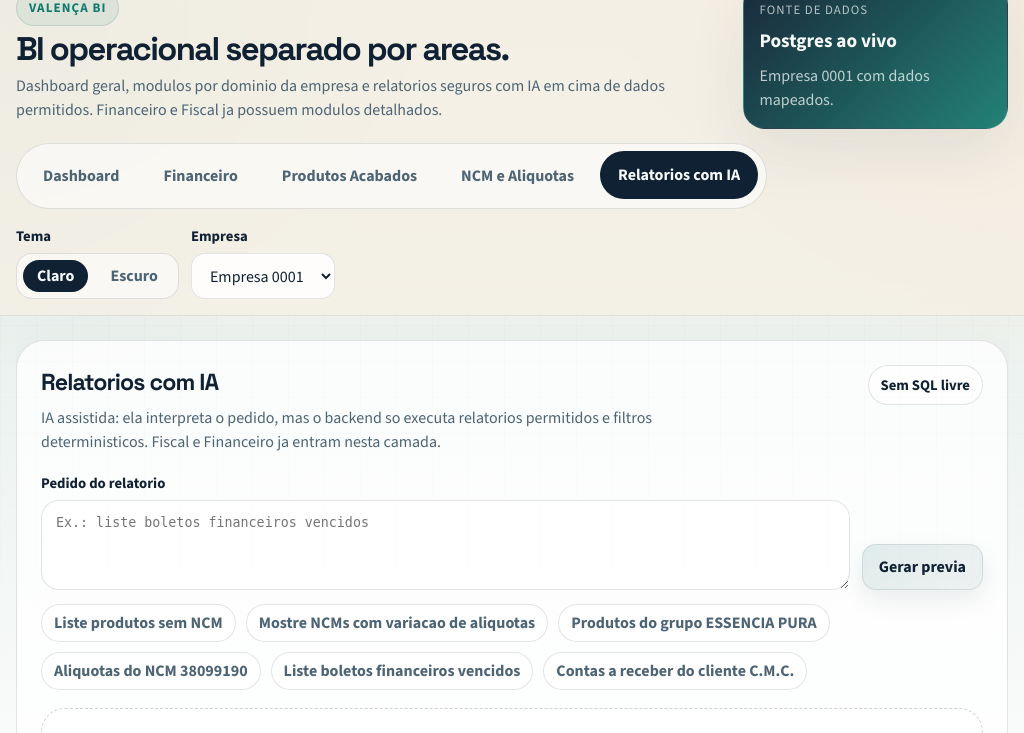
Scenario: Arquimedes BI app › gera uma previa financeira na tela de relatorios com IA
The image size is (1024, 733).
Expected: the heading "Relatorios com IA" is shown, top-left (41, 367), bottom-right (218, 397)
Type "relatorio financeiro vencido" into the text box labelled "Pedido do relatorio" at [445, 545], box top-left (41, 500), bottom-right (850, 590)
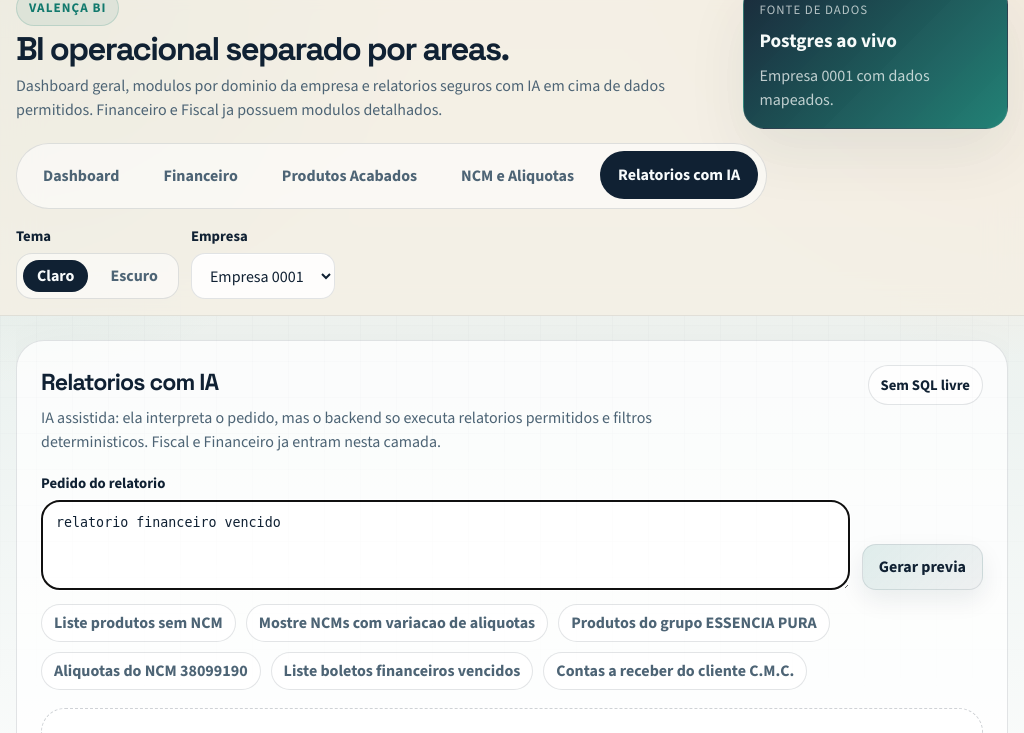
Click the button "Gerar previa" at [922, 567], box top-left (862, 544), bottom-right (983, 590)
(page scrolled)
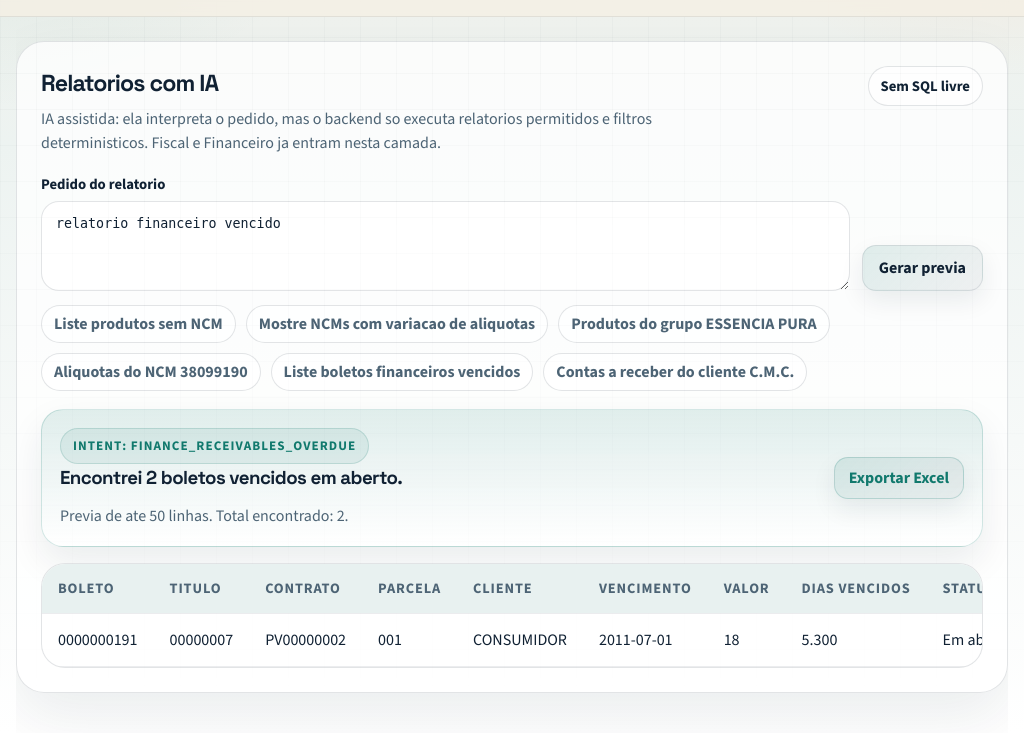
Expected: the heading "Encontrei 2 boletos vencidos em aberto." is shown, top-left (60, 464), bottom-right (402, 492)
Expected: the text "0000000191" is shown, top-left (42, 614), bottom-right (154, 667)
